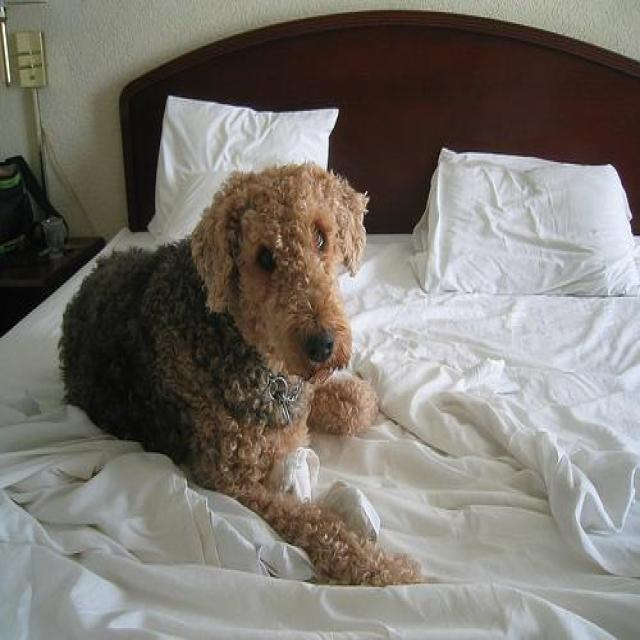airedale: (58, 155, 426, 590)
